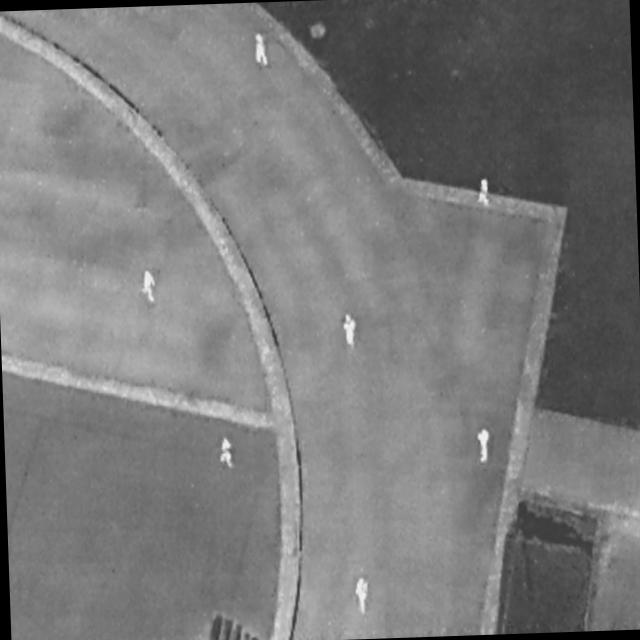person: (140, 267, 158, 307), (217, 433, 236, 470), (252, 32, 271, 69), (341, 311, 359, 349), (355, 575, 371, 615), (477, 428, 491, 463), (477, 180, 489, 206)
